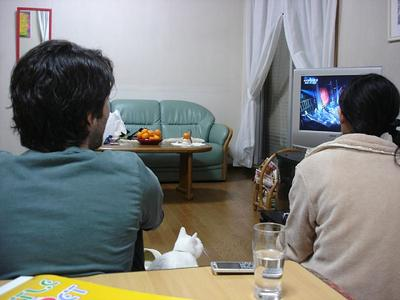person: (278, 73, 400, 300)
